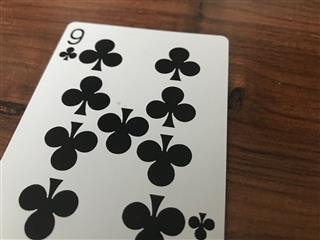NineOfClubs: (1, 20, 230, 240)
